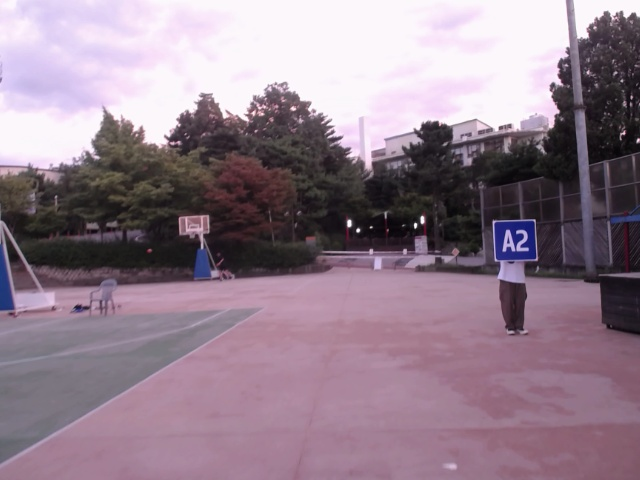delivery_a2: (493, 220, 537, 262)
